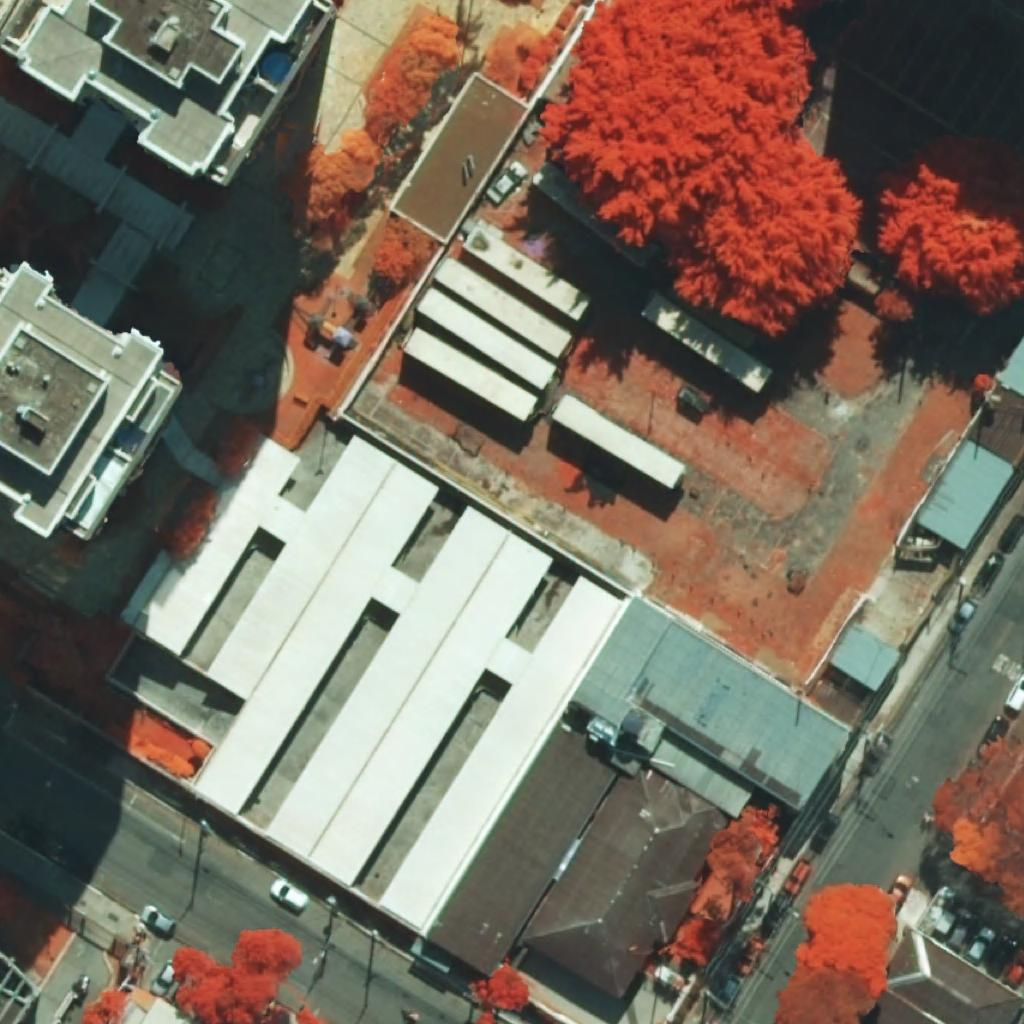pool: (262, 52, 292, 84)
